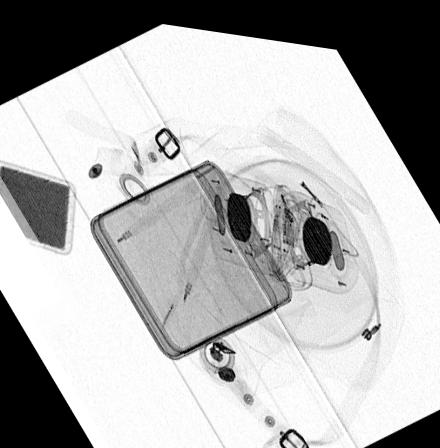Powerbank: (0, 160, 78, 254)
